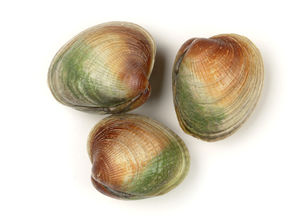cockle: (170, 31, 268, 143), (45, 20, 159, 114), (85, 115, 192, 202)
